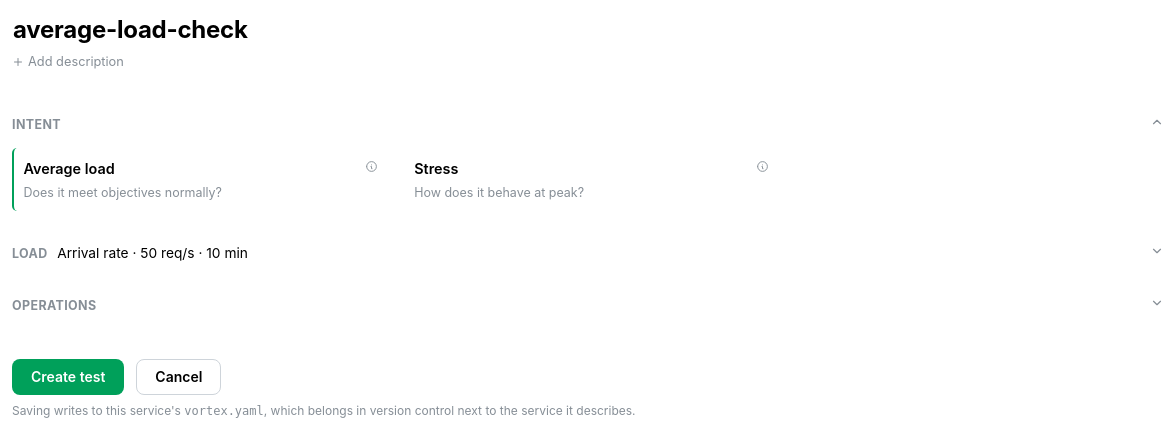
Test: the inline test composer › suggests a name from the evaluation only while the field is empty
Expected: the field named "Name" holds "average-load-check", x1=12 y1=12 x2=1164 y2=48
Step 1. Click the text "Stress" → [436, 169], box x1=414 y1=160 x2=458 y2=177
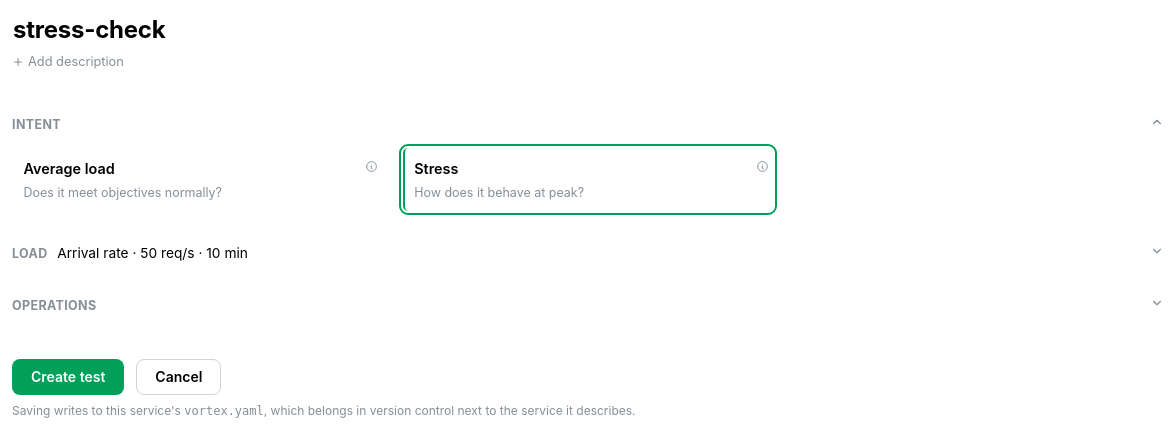
Expected: the field named "Name" holds "stress-check", x1=12 y1=12 x2=1164 y2=48
